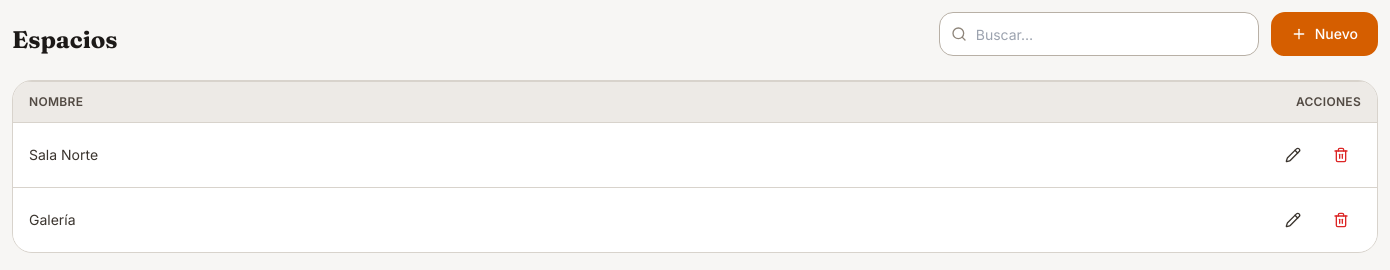
Test case: CrudManager › filters rows by the configured searchable fields
Type "teatro" into the search field named "Buscar en Espacios". click: (1099,34)
box: [939,12,1259,56]
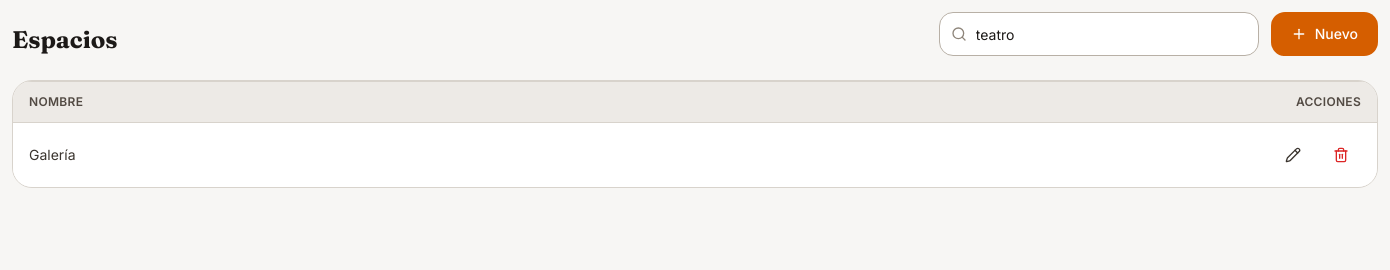
Expected: the text "Galería" is shown, [13,122,583,187]
Now the text "Sala Norte" is gone
